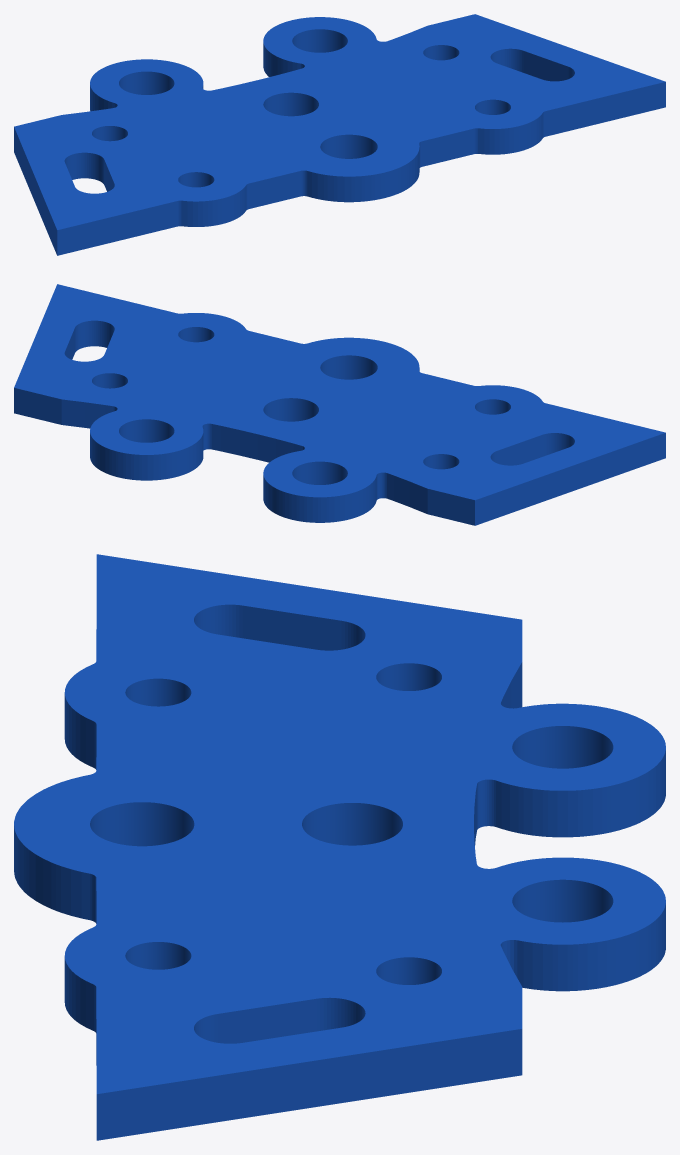
File: 02_placa_cuerpo_cabeza.glb
3 renders of one model, top to bottom at view 1: azimuth 30°, elevation 25°; view 2: azimuth 150°, elevation 25°; view 3: azimuth 270°, elevation 25°, orthographic. The views are drawn at different scales.
Parts seen in each view (by area): view 1: 02_placa_cuerpo_cabeza; view 2: 02_placa_cuerpo_cabeza; view 3: 02_placa_cuerpo_cabeza.
Boxes of the visible parts, box(x1,y1,x2,y2) form: 02_placa_cuerpo_cabeza: box(14, 14, 665, 255); 02_placa_cuerpo_cabeza: box(14, 284, 665, 525); 02_placa_cuerpo_cabeza: box(14, 554, 665, 1140).
Bounding box in the file's own units: 316 × 12.7 × 161.
